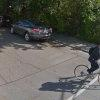Bicycle: (72, 57, 99, 87)
